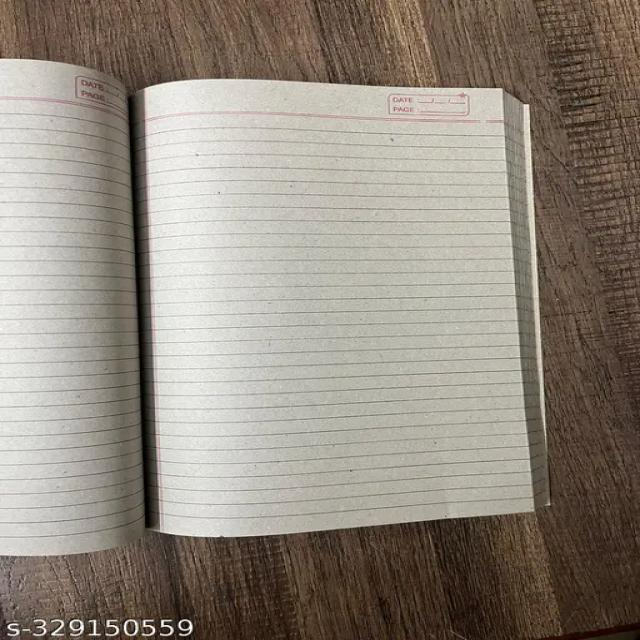notebook: (6, 42, 556, 554)
